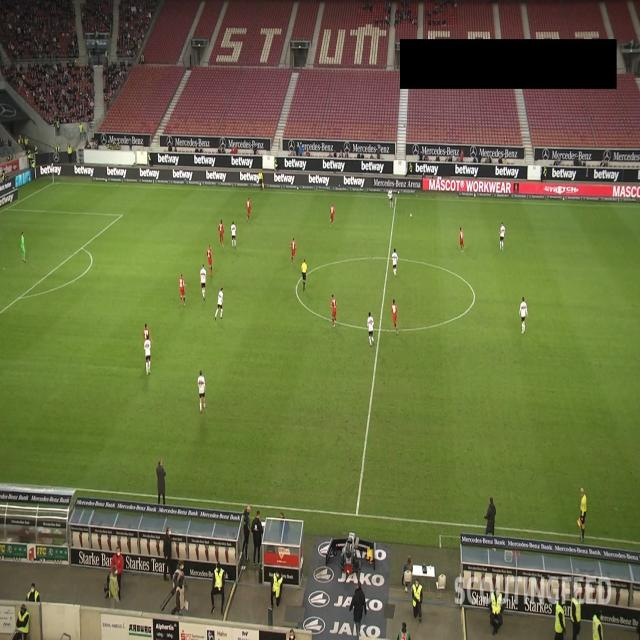ball: (409, 212, 413, 218)
